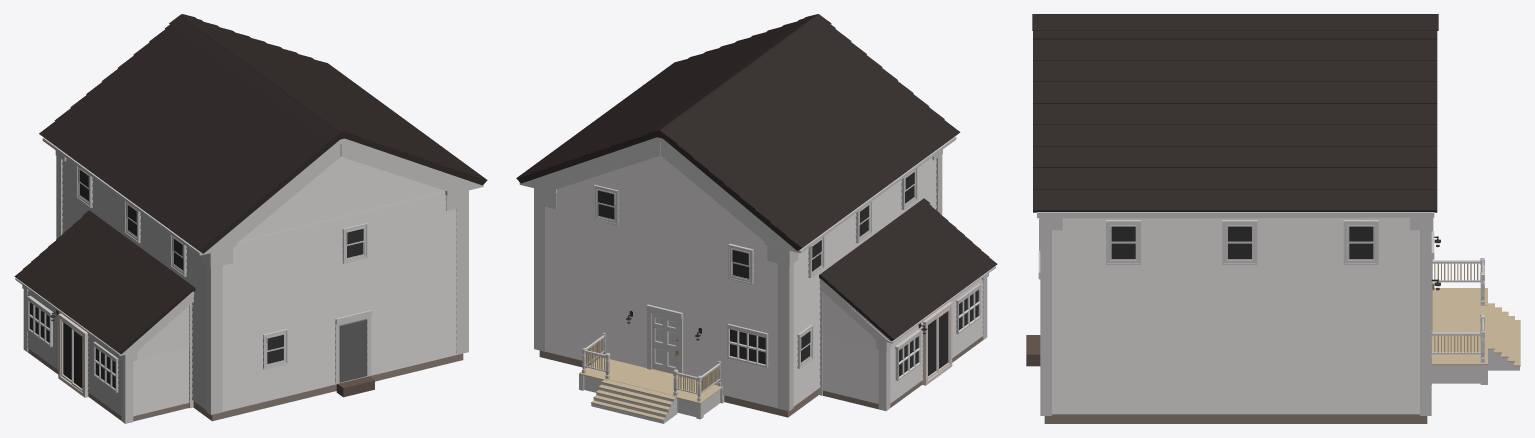
The model's file is house2.fbx.
The picture shows the model from 3 angles, left to right: view 1: azimuth 30°, elevation 25°; view 2: azimuth 150°, elevation 25°; view 3: azimuth 270°, elevation 25°; orthographic projection. The views are drawn at different scales.
Parts seen in each view (by area): view 1: pCube1044 (×2), pCube1070, pCube1071, pCube1046, pCube1069, pCube1047 (×2), roofframe_main (×2), pCube1059, pCube1077, pCube1082, pCube1074, pCube1081 (+14 smaller); view 2: pCube1044 (×2), pCube1062, pCube1063, pCube1046, pCube1068, pCube1047 (×2), roofframe_main (×2), pCube1059, porch, pCube1132, pCube1079, stairs (+16 smaller); view 3: pCube1046, pCube1061, pCube1060, pCube1047, porch, pCube997, roofframe_main, pCube1080, pCube1081, stairs, windowframe_plain21, windowframe_plain23 (+2 smaller).
Part boxes in pixels (bbox=[...]): pCube1044 (×2): bbox=[14, 25, 343, 354]; pCube1070: bbox=[222, 191, 456, 328]; pCube1071: bbox=[222, 272, 456, 411]; pCube1046: bbox=[198, 19, 487, 187]; pCube1069: bbox=[239, 156, 444, 241]; pCube1047 (×2): bbox=[83, 14, 355, 292]; roofframe_main (×2): bbox=[15, 138, 483, 355]; pCube1059: bbox=[62, 158, 206, 327]; pCube1077: bbox=[133, 347, 189, 416]; pCube1082: bbox=[206, 265, 222, 414]; pCube1074: bbox=[27, 290, 121, 416]; pCube1081: bbox=[456, 191, 468, 354]; pCube1044 (×2): bbox=[660, 24, 997, 341]; pCube1062: bbox=[546, 190, 777, 326]; pCube1063: bbox=[546, 270, 777, 408]; pCube1046: bbox=[516, 19, 802, 185]; pCube1068: bbox=[557, 155, 763, 240]; pCube1047 (×2): bbox=[646, 14, 929, 279]; roofframe_main (×2): bbox=[519, 136, 995, 343]; pCube1059: bbox=[793, 157, 936, 324]; porch: bbox=[579, 332, 724, 419]; pCube1132: bbox=[822, 335, 878, 403]; pCube1079: bbox=[777, 263, 793, 411]; stairs: bbox=[591, 379, 677, 423]; pCube1046: bbox=[1033, 30, 1437, 212]; pCube1061: bbox=[1052, 310, 1419, 414]; pCube1060: bbox=[1052, 217, 1419, 309]; pCube1047: bbox=[1032, 14, 1438, 30]; porch: bbox=[1431, 258, 1487, 384]; pCube997: bbox=[1044, 414, 1427, 423]; roofframe_main: bbox=[1037, 212, 1434, 218]; pCube1080: bbox=[1420, 217, 1431, 415]; pCube1081: bbox=[1040, 218, 1051, 415]; stairs: bbox=[1485, 303, 1520, 370]; windowframe_plain21: bbox=[1343, 220, 1378, 264]; windowframe_plain23: bbox=[1222, 220, 1257, 264].
Size of the model in its own units: 16.86 by 12.4 by 16.42.
